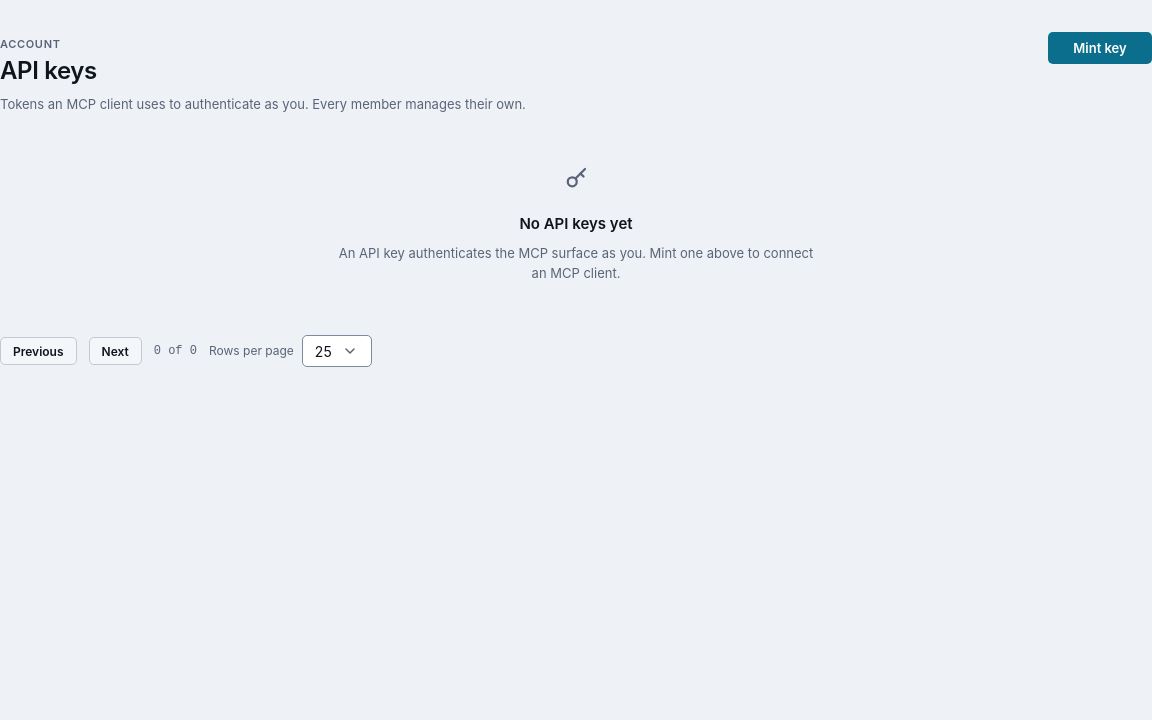
Test: ApiKeysPage › opens the mint dialog from the header action and closes it on Cancel without minting
Expected: the text "No API keys yet" is shown, [519,212,633,235]
Click the button "Mint key". click: click(1100, 48)
box: [1048,32,1151,64]
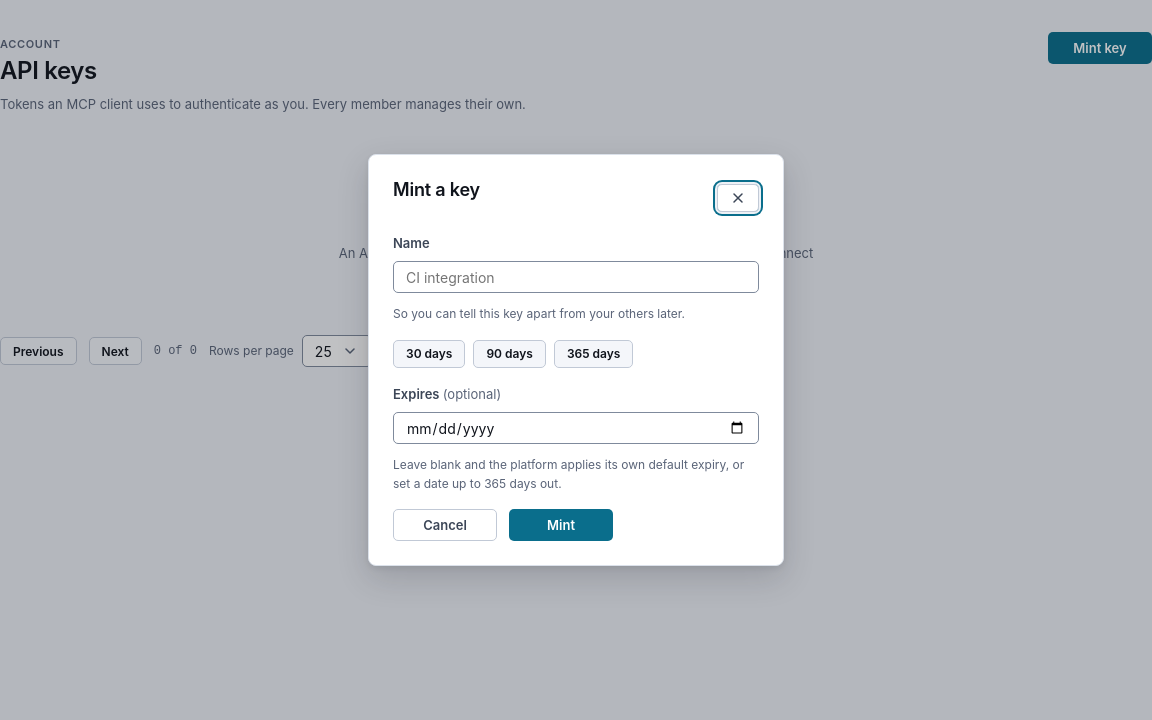
Now the field labelled "Name" is shown, box [393,261,759,293]
Now the text "So you can tell this key apart from your others later." is shown, box [393,306,685,321]
Click the button "Cancel". click: click(445, 525)
box: [393,509,497,541]
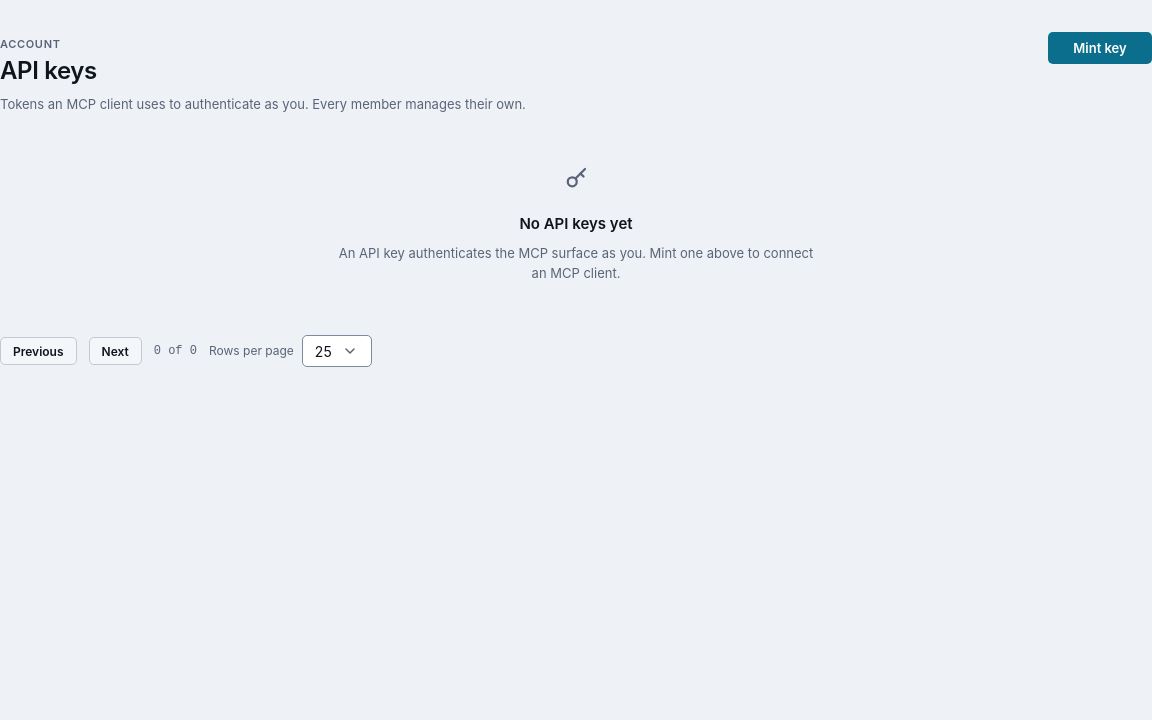
Now the dialog is gone
